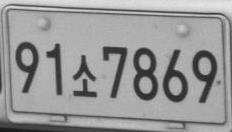1: (43, 42, 69, 95)
6: (161, 48, 189, 103)
7: (101, 45, 128, 98)
8: (131, 47, 159, 101)
9: (191, 49, 218, 103), (14, 41, 40, 93)
소: (72, 54, 98, 97)
